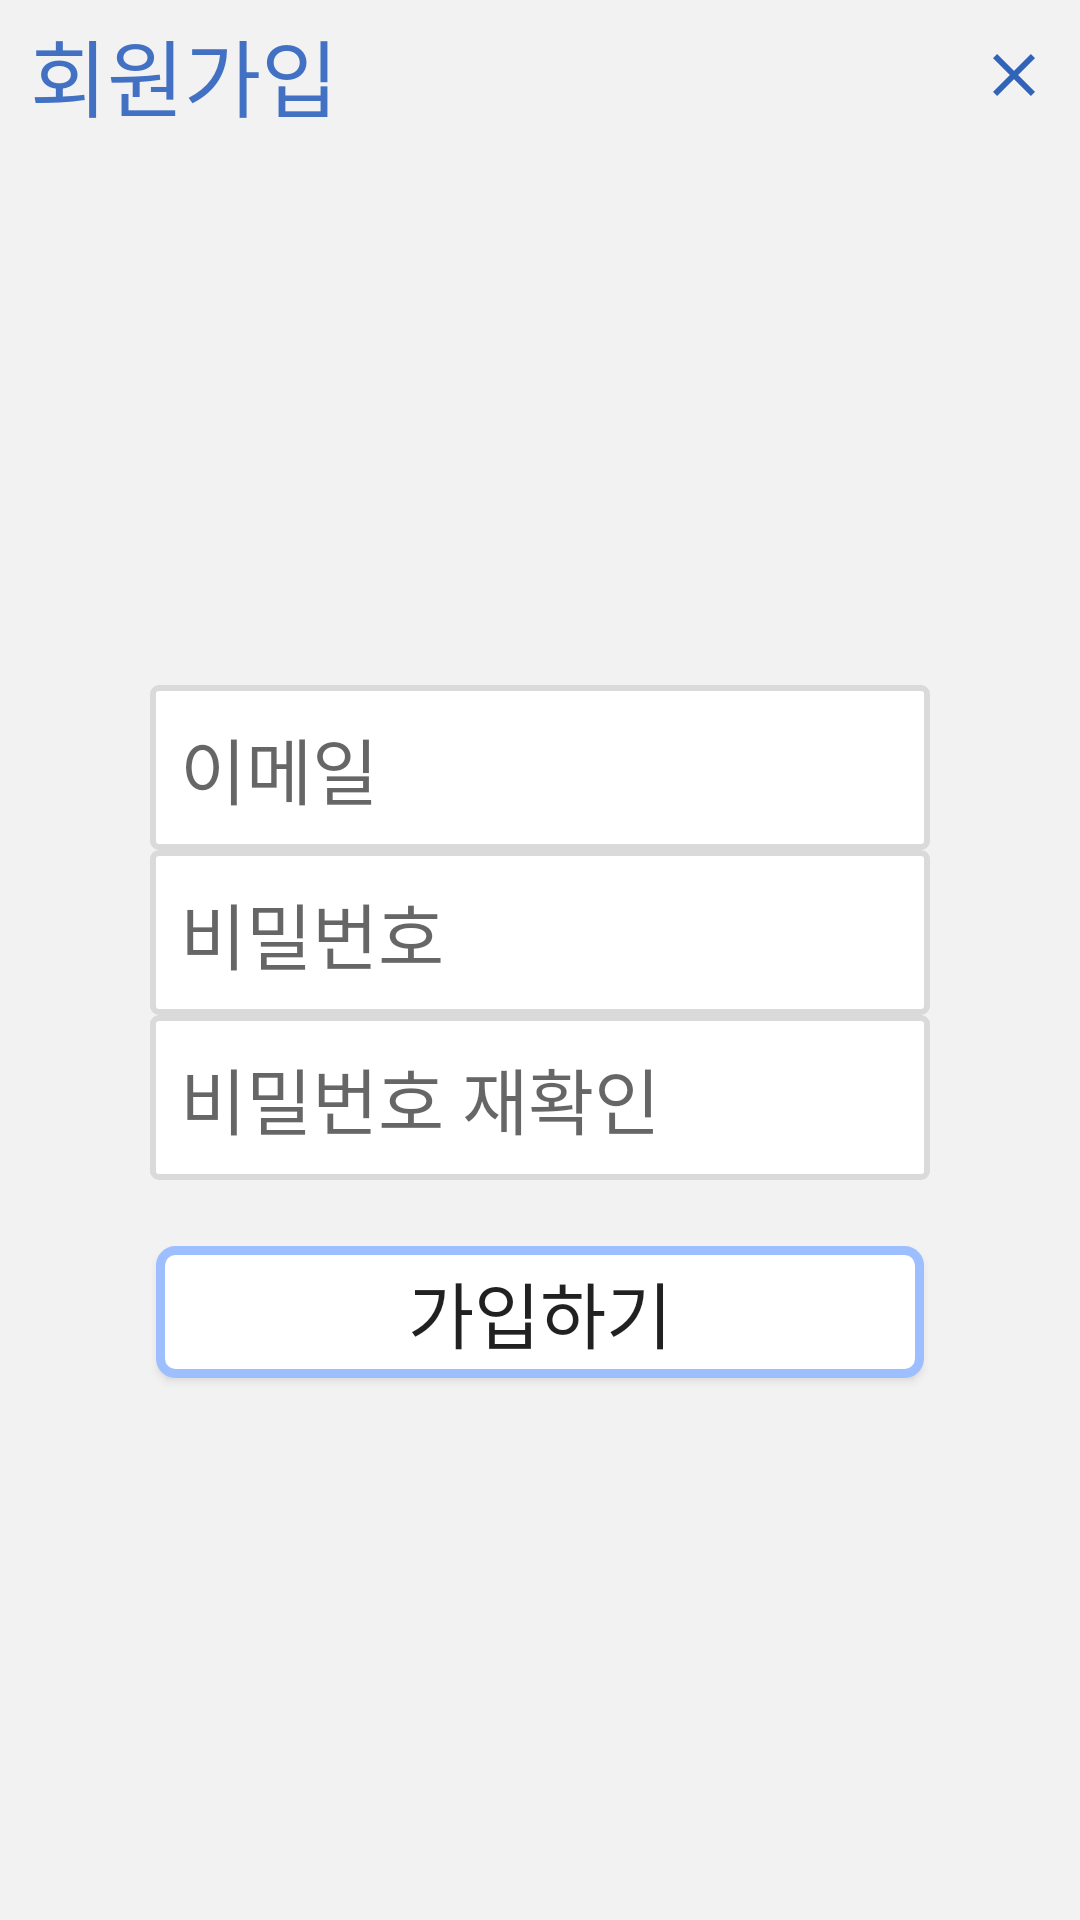

Point at icon controls on the screen. Image size 1080×1920, points as [x,y].
close: [1014,75]
